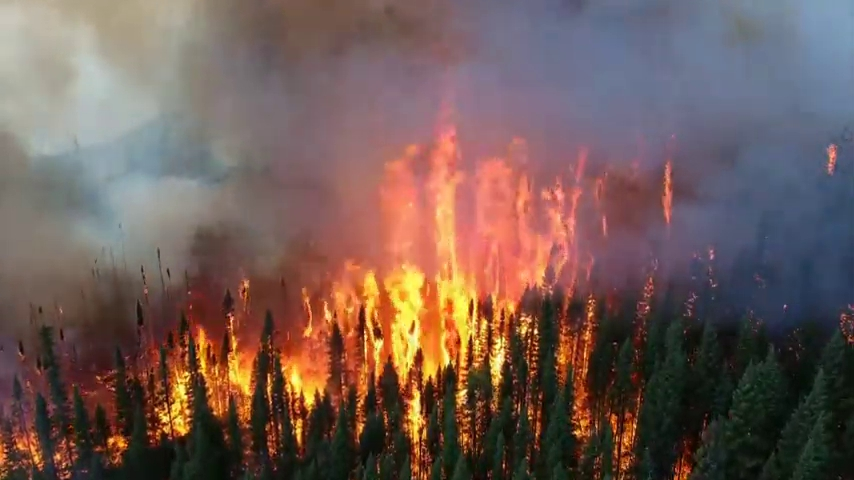forest_fire: (281, 126, 586, 398), (196, 313, 253, 418), (561, 297, 597, 441), (154, 346, 192, 433), (606, 392, 641, 476), (10, 375, 40, 468), (674, 444, 692, 479)
